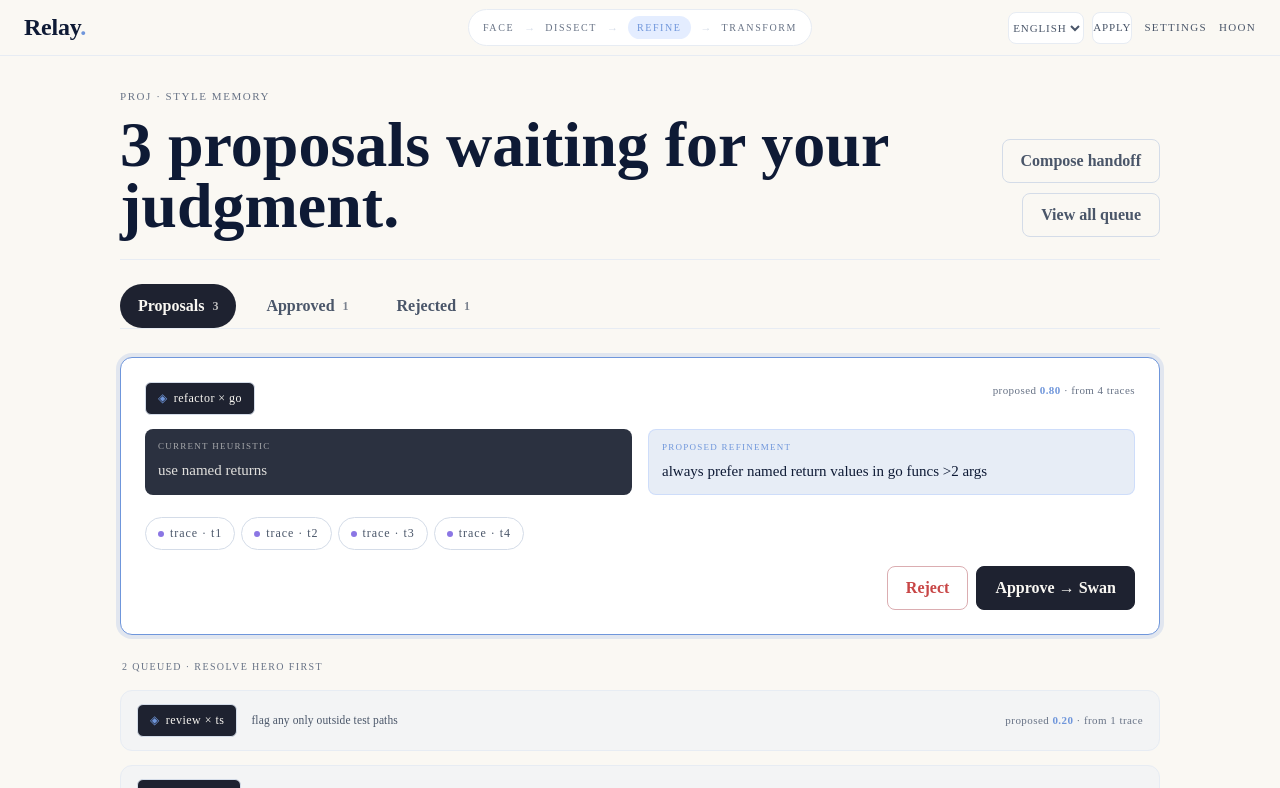
approve action › refreshes the approved list after a successful approval
The image size is (1280, 788).
Click the button with test id "approve-p-1" at (1056, 588), box [976,566,1135,610]
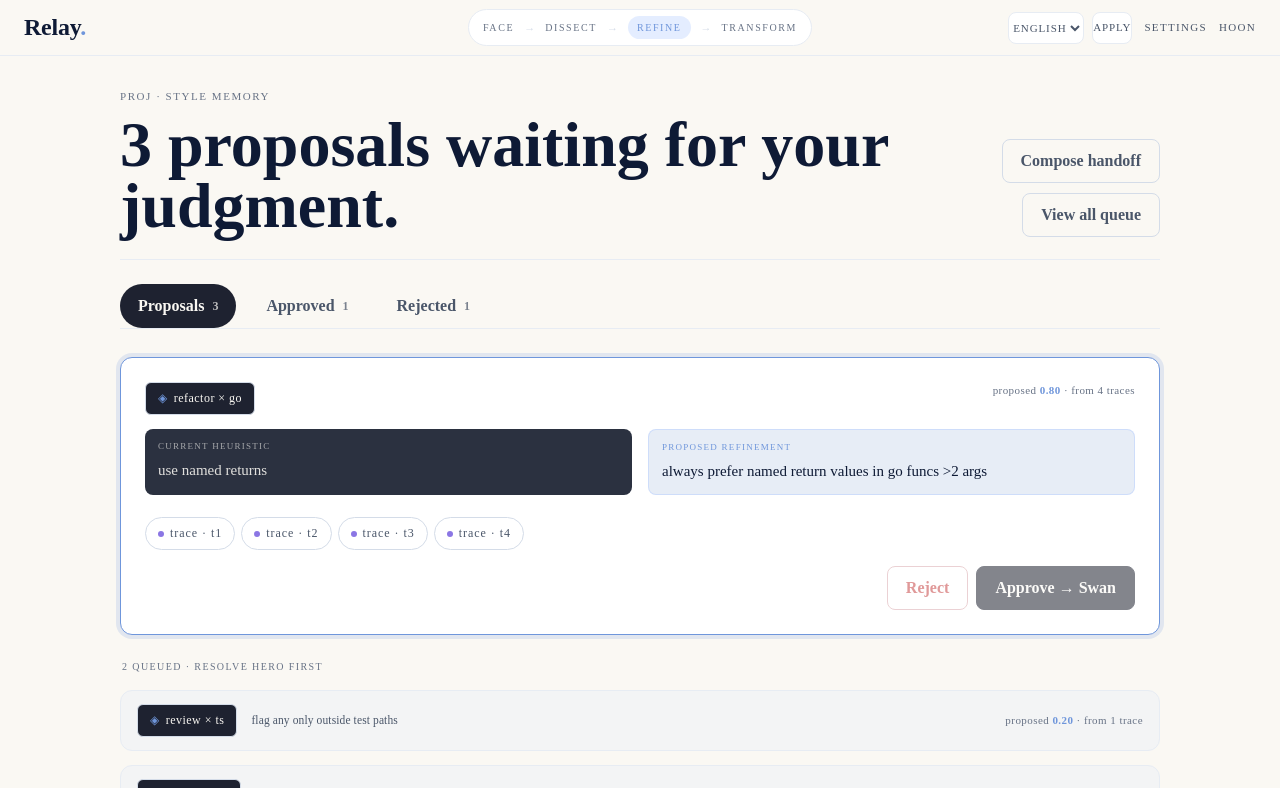
Click the tab named "approved1" at (308, 306), box [248,284,367,328]
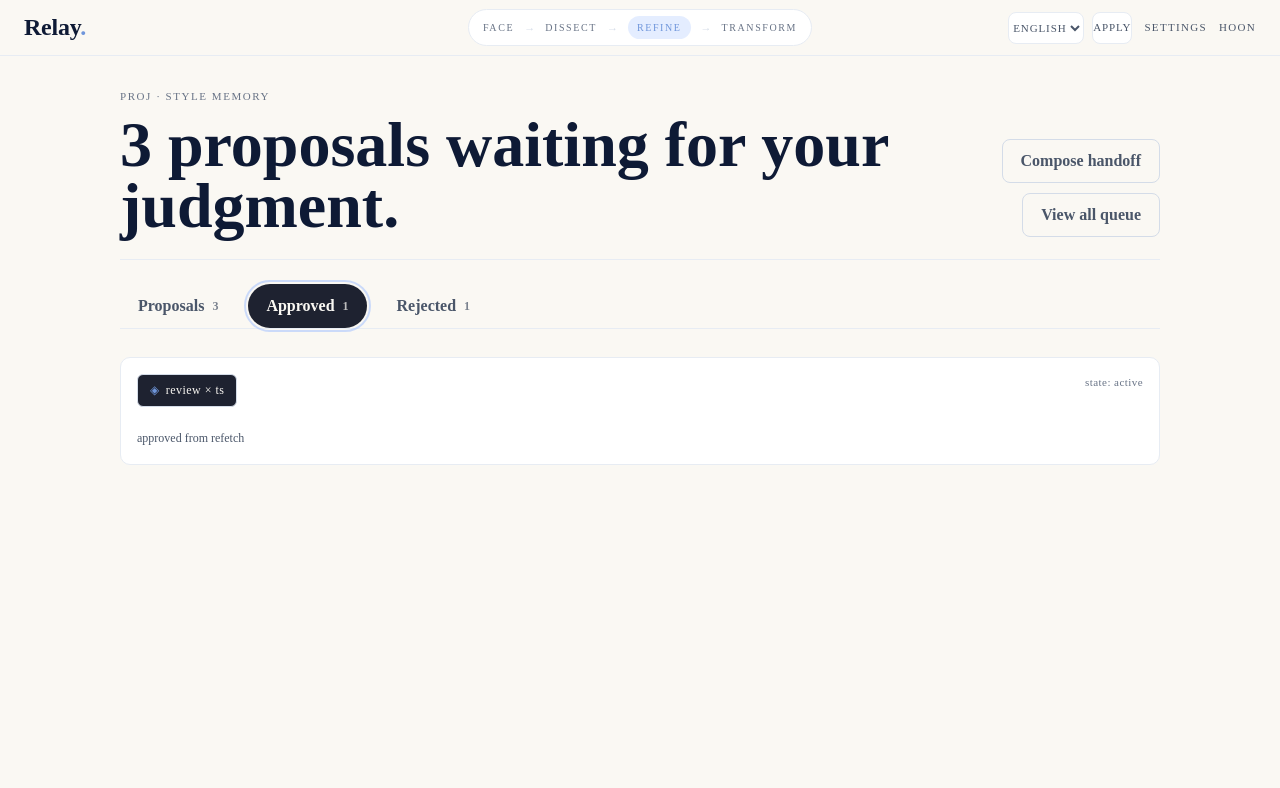
Result: the text "approved from refetch" is shown at [137,431,244,445]
